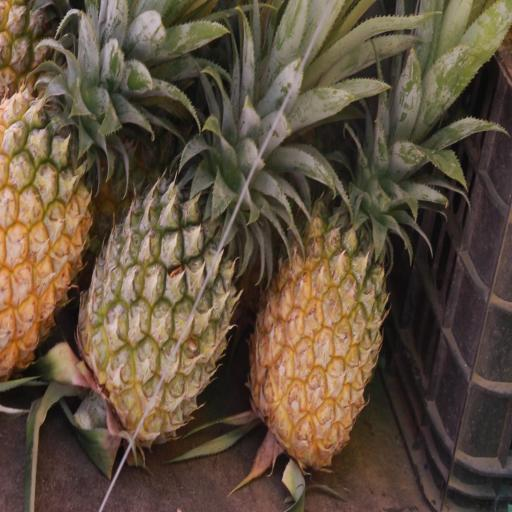Pineapple - v8 v1: (248, 112, 394, 476), (0, 42, 91, 397)
